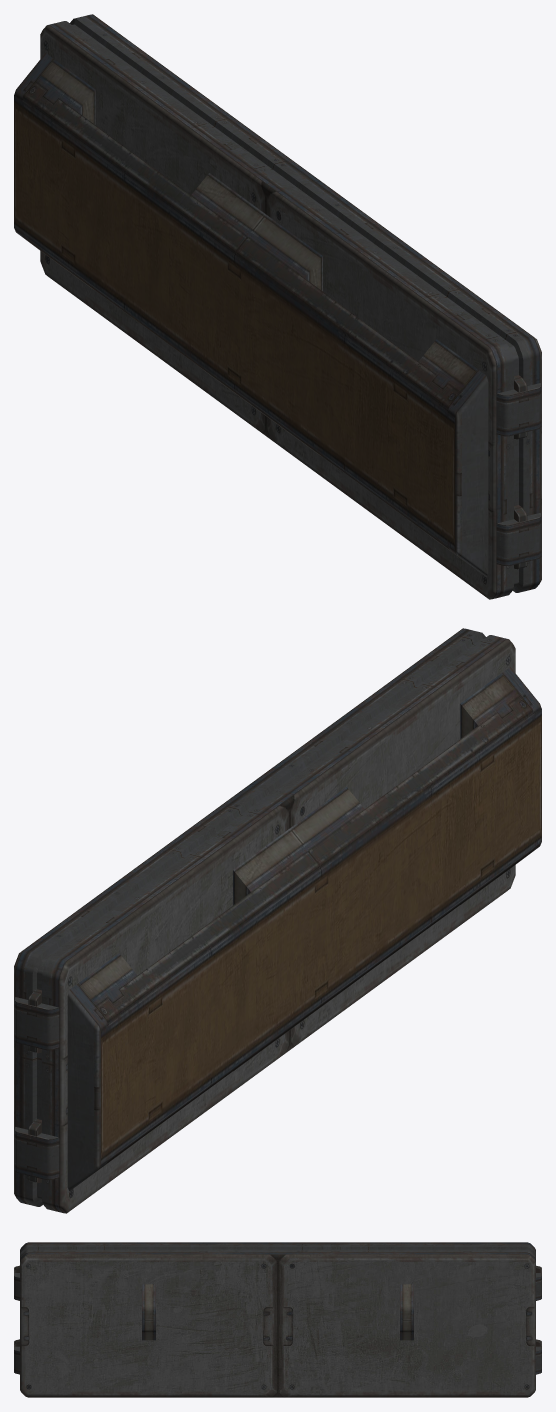
File: Structure1_Roof1_Edge_Short.fbx
3 views of the same model, one above another, from view 1: azimuth 30°, elevation 25°; view 2: azimuth 150°, elevation 25°; view 3: azimuth 270°, elevation 25° (orthographic). The views are drawn at different scales.
Parts seen in each view (by area): view 1: Structure1_Roof1_Edge_Short; view 2: Structure1_Roof1_Edge_Short; view 3: Structure1_Roof1_Edge_Short.
Part boxes in pixels (x1,y1,x2,y2): Structure1_Roof1_Edge_Short: [14, 14, 541, 599]; Structure1_Roof1_Edge_Short: [14, 628, 541, 1213]; Structure1_Roof1_Edge_Short: [14, 1242, 541, 1397].
Size of the model in its own units: 56.21 by 122 by 409.
